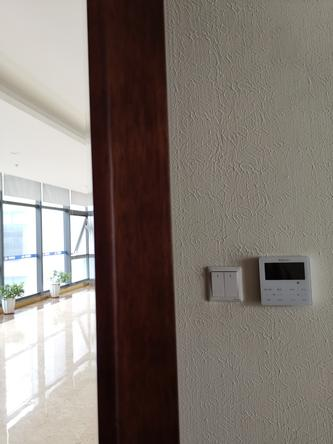switch: (223, 269, 242, 301), (209, 270, 227, 300)
